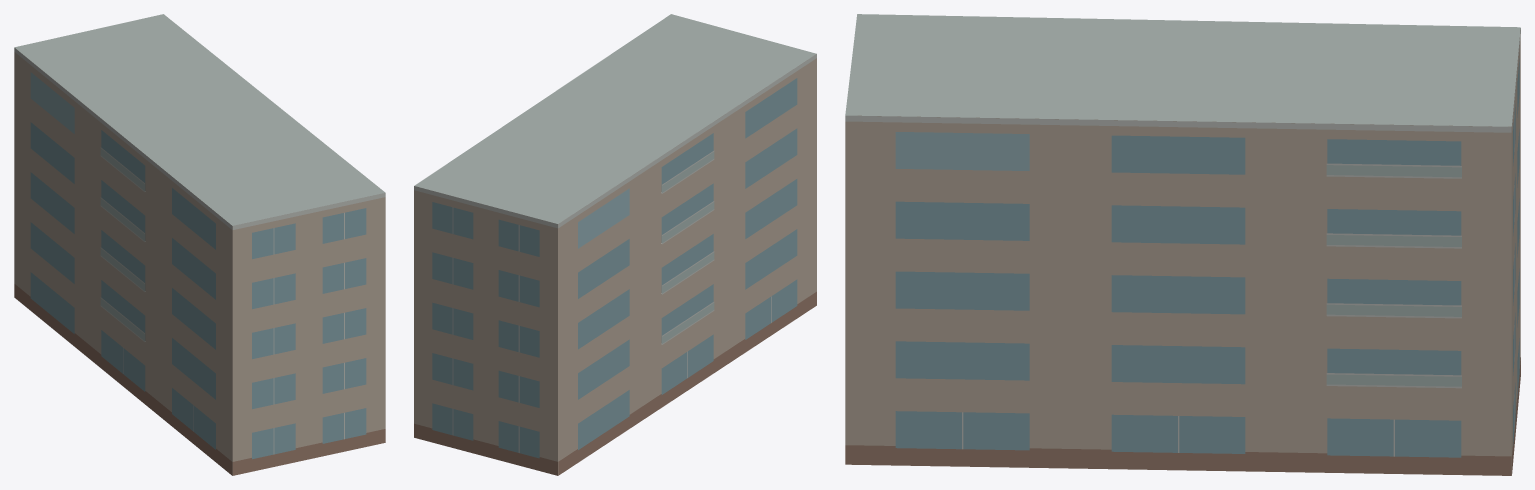
Rendered from survey-upis-32773444.glb.
3 renders of one model, left to right at view 1: azimuth 30°, elevation 25°; view 2: azimuth 150°, elevation 25°; view 3: azimuth 270°, elevation 25°, orthographic. The views are drawn at different scales.
Parts seen in each view (by area): view 1: survey-upis-32773444.tmp; view 2: survey-upis-32773444.tmp; view 3: survey-upis-32773444.tmp.
Part boxes in pixels (x1,y1,x2,y2): survey-upis-32773444.tmp: [14, 14, 385, 475]; survey-upis-32773444.tmp: [414, 14, 816, 475]; survey-upis-32773444.tmp: [845, 14, 1520, 475].
Size of the model in its own units: 9.83 by 14.17 by 24.87.
